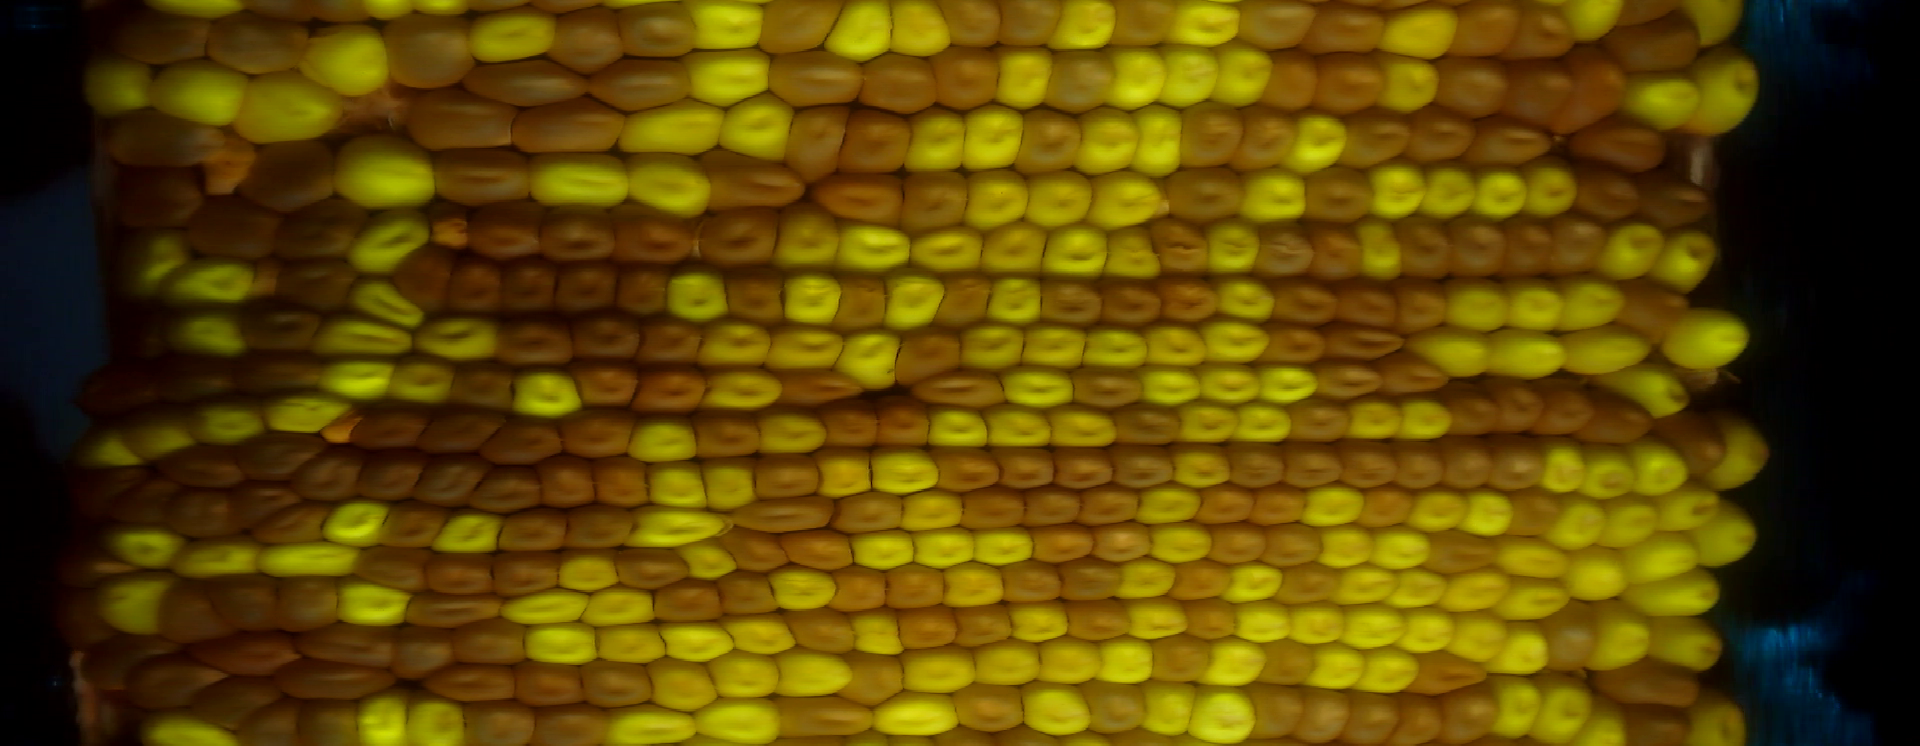fluorescent: (328, 134, 442, 212), (235, 69, 342, 143), (149, 55, 250, 125), (298, 20, 388, 97), (1693, 40, 1763, 138), (623, 145, 711, 218), (527, 149, 629, 209), (1656, 309, 1753, 370), (620, 98, 724, 154), (683, 47, 775, 108), (722, 91, 796, 165), (157, 255, 261, 307), (463, 6, 560, 62), (1558, 323, 1654, 376), (1621, 70, 1702, 132), (310, 314, 415, 360), (81, 53, 156, 118), (776, 201, 841, 276), (1642, 611, 1720, 673), (1596, 367, 1691, 418), (958, 100, 1024, 171), (1709, 414, 1771, 490), (1373, 49, 1441, 116), (349, 212, 429, 269), (345, 272, 425, 330), (988, 43, 1054, 111), (1588, 597, 1649, 670), (1408, 327, 1493, 380), (1087, 170, 1164, 228), (1378, 7, 1460, 61), (629, 503, 729, 548), (1693, 499, 1758, 566), (1071, 107, 1134, 176), (97, 572, 167, 635), (1213, 39, 1275, 109), (1286, 107, 1347, 176), (171, 533, 263, 579), (1188, 685, 1258, 746), (1131, 103, 1187, 180), (253, 540, 365, 578), (418, 316, 500, 367), (1602, 217, 1667, 282), (1363, 153, 1427, 219), (880, 269, 947, 333), (1629, 575, 1724, 619), (1162, 40, 1223, 109), (1040, 220, 1109, 281), (909, 222, 984, 277), (904, 103, 962, 174), (1021, 169, 1092, 228), (868, 691, 962, 735), (1483, 328, 1567, 377), (962, 167, 1029, 229), (669, 260, 730, 327), (686, 2, 768, 53), (1660, 222, 1719, 292), (1021, 681, 1093, 737), (694, 698, 784, 744), (835, 219, 909, 274), (1558, 277, 1631, 332), (1109, 45, 1168, 114), (1440, 276, 1509, 334), (752, 405, 830, 457), (508, 367, 584, 420), (624, 412, 700, 464), (1502, 272, 1562, 338), (1484, 671, 1544, 737), (888, 1, 955, 60), (980, 222, 1047, 281), (1239, 167, 1309, 223), (1520, 156, 1582, 218), (830, 2, 896, 61), (836, 332, 902, 391), (647, 655, 718, 709), (1102, 223, 1163, 285), (775, 646, 852, 695), (607, 704, 698, 746), (1200, 216, 1261, 277), (1630, 437, 1691, 499), (191, 401, 269, 448), (1562, 545, 1633, 598), (1539, 674, 1592, 745), (264, 390, 349, 434), (697, 318, 773, 367), (710, 650, 782, 702), (1047, 2, 1120, 53), (982, 399, 1056, 450), (767, 563, 841, 612), (403, 690, 468, 746), (1142, 318, 1213, 370), (1162, 2, 1240, 49), (644, 459, 711, 513), (321, 499, 393, 549), (1044, 401, 1118, 450), (869, 445, 944, 492), (767, 327, 847, 371), (133, 709, 230, 746), (1209, 274, 1281, 323), (907, 644, 980, 693), (1581, 443, 1641, 502), (778, 272, 840, 328), (999, 364, 1076, 409), (658, 620, 735, 665), (1202, 637, 1269, 690), (702, 369, 782, 412), (339, 577, 407, 628), (940, 560, 1008, 611), (126, 236, 187, 293), (582, 583, 658, 628), (1351, 217, 1404, 281), (124, 405, 193, 454), (435, 508, 504, 557), (898, 488, 971, 533), (984, 274, 1044, 330), (1021, 322, 1089, 371), (1424, 159, 1477, 222), (502, 590, 591, 627), (698, 461, 762, 512), (1656, 483, 1719, 534), (518, 624, 599, 664), (108, 526, 186, 567), (1389, 394, 1453, 445), (383, 359, 457, 403), (817, 443, 876, 499), (976, 638, 1042, 687), (1692, 687, 1747, 746), (962, 320, 1025, 371), (1625, 539, 1702, 581), (847, 608, 912, 657), (1550, 496, 1608, 551), (1450, 608, 1509, 661), (715, 612, 793, 653), (910, 528, 983, 571), (1496, 576, 1567, 620), (926, 401, 989, 450), (1357, 646, 1420, 695), (845, 528, 920, 570), (598, 624, 672, 665), (1202, 317, 1271, 363), (354, 690, 410, 745), (1472, 164, 1526, 222), (1082, 322, 1149, 369), (1302, 481, 1367, 528), (1038, 639, 1103, 686), (1445, 565, 1507, 612), (1603, 492, 1657, 548), (1310, 641, 1367, 693), (1176, 401, 1240, 446), (1231, 599, 1296, 644), (324, 359, 393, 402), (1134, 481, 1202, 524), (1335, 565, 1403, 608), (175, 316, 247, 356), (1173, 443, 1236, 490), (969, 524, 1036, 567), (1145, 523, 1213, 565), (1540, 435, 1587, 496), (1342, 396, 1404, 441), (1407, 488, 1469, 533), (1288, 599, 1344, 649), (1340, 606, 1403, 650), (1096, 637, 1155, 685), (1118, 552, 1178, 599), (1498, 538, 1569, 577), (1144, 680, 1196, 733), (1498, 624, 1551, 675), (557, 550, 623, 592), (1005, 599, 1071, 641), (1318, 523, 1376, 570), (1198, 365, 1262, 407), (1125, 598, 1191, 638), (77, 432, 147, 470), (1371, 527, 1431, 571), (1461, 488, 1513, 538), (1221, 562, 1283, 604), (1393, 565, 1447, 612), (1258, 364, 1318, 407), (1233, 401, 1293, 443), (1402, 608, 1457, 654), (677, 539, 738, 579), (1141, 369, 1204, 408), (1584, 699, 1625, 746)
nonfluorescent: (110, 108, 236, 165), (509, 96, 629, 154), (405, 93, 520, 153), (698, 149, 808, 211), (204, 11, 310, 73), (602, 198, 702, 265), (384, 12, 471, 87), (1593, 13, 1704, 71), (465, 58, 593, 107), (276, 196, 365, 265), (1561, 45, 1629, 134), (246, 140, 336, 206), (587, 60, 699, 111), (768, 50, 869, 107), (189, 198, 282, 260), (110, 7, 216, 61), (433, 148, 531, 205), (465, 198, 549, 265), (814, 171, 909, 229), (786, 102, 851, 185), (551, 2, 626, 75), (76, 356, 162, 419), (113, 167, 193, 233), (856, 50, 939, 114), (279, 655, 398, 699), (1309, 49, 1386, 116), (539, 198, 617, 265), (1435, 53, 1513, 118), (694, 206, 773, 269), (204, 570, 283, 633), (1540, 597, 1603, 676), (771, 693, 876, 741), (1158, 167, 1247, 223), (236, 296, 320, 355), (1573, 120, 1668, 171), (491, 314, 577, 370), (929, 44, 1003, 109), (1463, 113, 1560, 162), (1013, 107, 1082, 174), (1597, 664, 1703, 708), (1178, 98, 1245, 167), (1656, 408, 1723, 477), (157, 577, 224, 644), (1400, 108, 1477, 167), (758, 1, 840, 56), (484, 412, 566, 467), (299, 622, 398, 668), (898, 169, 972, 229), (909, 367, 1010, 412), (1389, 217, 1456, 283), (239, 430, 323, 483), (131, 649, 213, 703), (620, 2, 698, 58), (171, 481, 245, 540), (1047, 49, 1114, 113), (447, 616, 527, 670), (1342, 107, 1411, 169), (1640, 176, 1713, 234), (471, 459, 545, 517), (158, 440, 246, 488), (1430, 382, 1505, 439), (722, 267, 791, 328), (1145, 218, 1215, 278), (1302, 165, 1373, 224), (1304, 2, 1384, 54), (158, 353, 238, 404), (1238, 100, 1296, 171), (893, 327, 965, 383), (841, 107, 905, 170), (1620, 277, 1684, 341), (1507, 60, 1572, 122), (421, 450, 486, 512), (561, 404, 634, 459), (1575, 167, 1642, 227), (842, 648, 910, 708), (551, 260, 620, 318), (779, 523, 857, 575), (398, 246, 456, 316), (276, 256, 351, 309), (212, 635, 305, 677), (1261, 49, 1325, 111), (589, 453, 655, 513), (571, 314, 644, 367), (1509, 2, 1578, 59), (354, 545, 436, 593), (729, 497, 839, 533), (1251, 223, 1318, 282), (580, 657, 654, 709), (447, 249, 503, 317), (421, 402, 500, 451), (429, 661, 520, 703), (538, 451, 598, 514), (498, 254, 557, 318), (1586, 387, 1652, 445), (349, 401, 429, 448), (1412, 648, 1491, 696), (1038, 274, 1107, 330), (514, 657, 588, 708), (784, 608, 861, 657), (931, 446, 1005, 496), (651, 577, 726, 627), (830, 488, 909, 535), (77, 635, 156, 682), (694, 403, 760, 459), (1331, 278, 1403, 330), (1082, 677, 1150, 733), (1067, 365, 1146, 412), (1451, 2, 1520, 56), (424, 548, 497, 598), (1238, 2, 1315, 50), (631, 366, 708, 414), (393, 624, 454, 684), (1342, 687, 1404, 746), (276, 575, 342, 630), (954, 684, 1026, 734), (751, 453, 827, 501), (235, 350, 320, 393), (1367, 352, 1449, 396), (250, 499, 329, 544), (1450, 217, 1509, 278), (830, 274, 891, 333), (460, 699, 538, 746), (1491, 367, 1545, 434), (872, 393, 934, 450), (1103, 443, 1177, 491), (996, 441, 1060, 495), (449, 360, 516, 413), (1223, 440, 1289, 492), (198, 675, 269, 724), (718, 526, 792, 572), (58, 593, 119, 649), (491, 551, 567, 597), (1340, 439, 1403, 492), (497, 507, 571, 554), (1425, 528, 1499, 575), (407, 588, 500, 625), (533, 702, 610, 746), (1149, 633, 1209, 690), (1502, 216, 1558, 277), (1389, 281, 1451, 334), (300, 445, 362, 499), (1049, 443, 1118, 492), (1309, 222, 1362, 285), (1272, 277, 1336, 330), (636, 314, 699, 366), (613, 546, 689, 590), (563, 503, 633, 551), (380, 499, 446, 549), (938, 274, 994, 333), (1244, 681, 1303, 737), (1109, 402, 1187, 445), (958, 485, 1029, 532), (882, 562, 949, 611), (1283, 396, 1352, 443), (1393, 688, 1450, 746), (1620, 701, 1693, 745), (1538, 377, 1591, 439), (299, 695, 361, 746), (997, 560, 1065, 606), (72, 467, 144, 511), (1113, 1, 1178, 50), (615, 261, 671, 317), (1491, 435, 1547, 492), (1260, 635, 1318, 690), (1441, 686, 1499, 741), (1297, 686, 1351, 745), (361, 446, 420, 499), (720, 567, 786, 614), (1102, 281, 1164, 330), (819, 401, 882, 450), (1156, 274, 1223, 320), (775, 366, 861, 402), (1393, 434, 1446, 491), (1551, 216, 1603, 274), (576, 360, 640, 407), (1283, 441, 1344, 490), (1260, 526, 1326, 571), (233, 697, 302, 740), (939, 2, 1002, 50), (1502, 488, 1562, 537), (1078, 481, 1140, 528), (1438, 439, 1494, 490), (830, 563, 888, 614), (1356, 481, 1419, 527), (1329, 323, 1407, 360), (947, 604, 1018, 644), (1193, 483, 1258, 527), (1063, 598, 1131, 639), (1018, 488, 1084, 530), (1276, 562, 1338, 608), (1029, 524, 1096, 566), (1060, 556, 1120, 603), (1202, 521, 1267, 563), (1262, 323, 1329, 365), (1182, 597, 1240, 643), (1167, 560, 1231, 603), (1318, 360, 1384, 401), (896, 608, 958, 650), (1087, 523, 1156, 561), (115, 480, 178, 522), (999, 2, 1057, 47), (1250, 483, 1308, 526), (245, 480, 294, 524)
